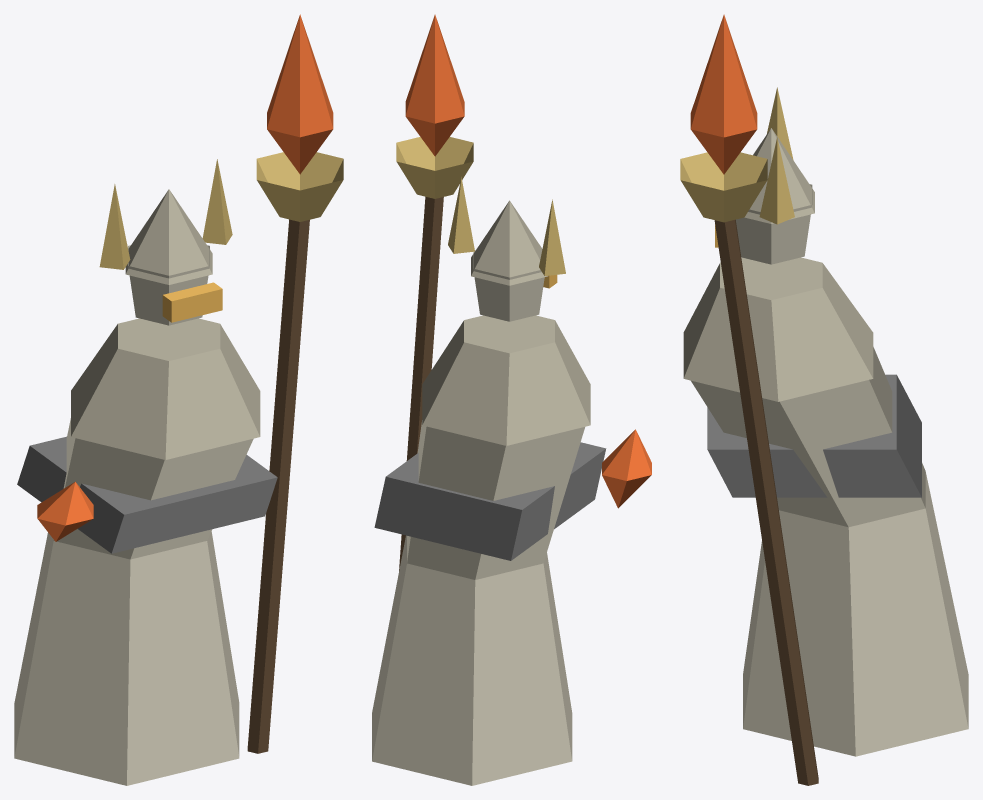
The model's file is pyromancer-attack-1.obj.
The picture shows the model from 3 angles, left to right: view 1: azimuth 30°, elevation 25°; view 2: azimuth 150°, elevation 25°; view 3: azimuth 270°, elevation 25°; orthographic projection. The views are drawn at different scales.
Parts seen in each view (by area): view 1: pyromancer-attack-1; view 2: pyromancer-attack-1; view 3: pyromancer-attack-1.
Boxes of the visible parts, box(x1,y1,x2,y2) form: pyromancer-attack-1: box(14, 14, 343, 785); pyromancer-attack-1: box(372, 14, 651, 785); pyromancer-attack-1: box(680, 14, 968, 785).
Bounding box in the file's own units: 1.16 × 2.86 × 0.9736.
